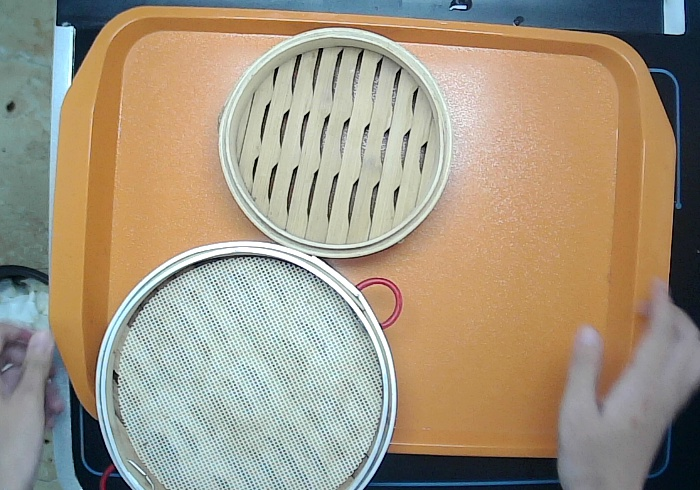ZNLD-Da_Zheng_Long: (87, 235, 413, 490)
ZNLD-Xiao_Zheng_Long: (208, 23, 458, 267)
